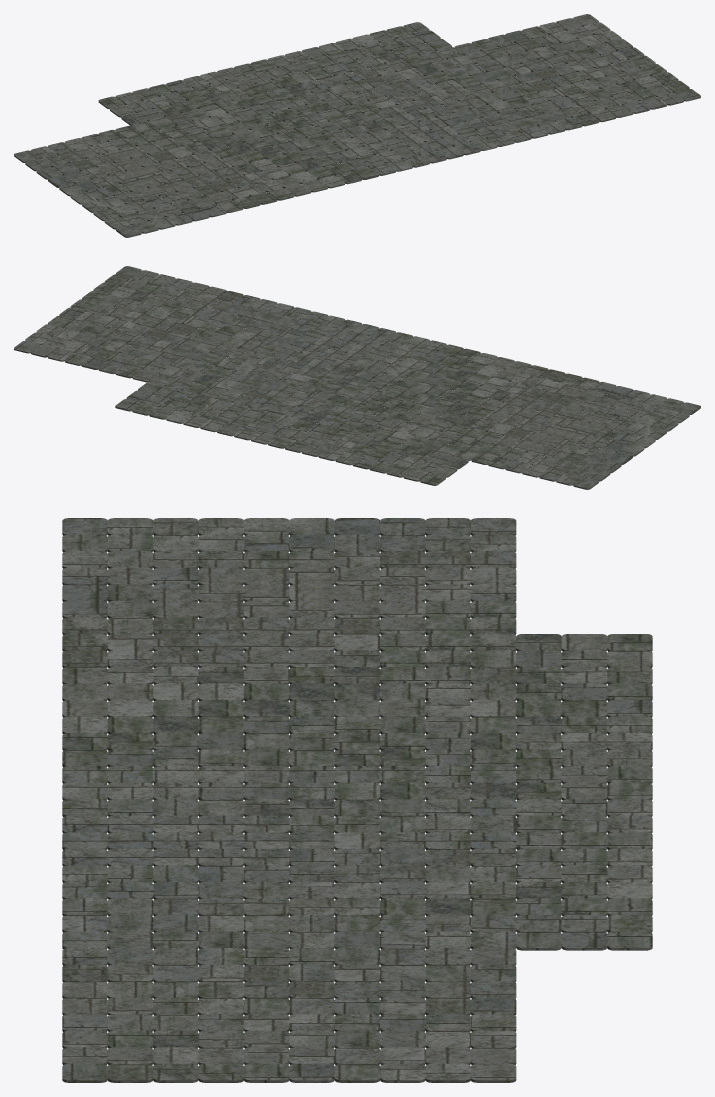
File: CourtyardFloorFirst.glb
3 renders of one model, top to bottom at view 1: azimuth 30°, elevation 25°; view 2: azimuth 150°, elevation 25°; view 3: azimuth 270°, elevation 25°, orthographic. The views are drawn at different scales.
Visible parts, largest first — view 1: 立方体.001; view 2: 立方体.001; view 3: 立方体.001.
Boxes of the visible parts, x1=… form: 立方体.001: x1=14, y1=14, x2=700, y2=237; 立方体.001: x1=14, y1=266, x2=700, y2=489; 立方体.001: x1=62, y1=518, x2=652, y2=1082.
Bounding box in the file's own units: 1699 × 3.66 × 754.
1 material, 1 textured.
